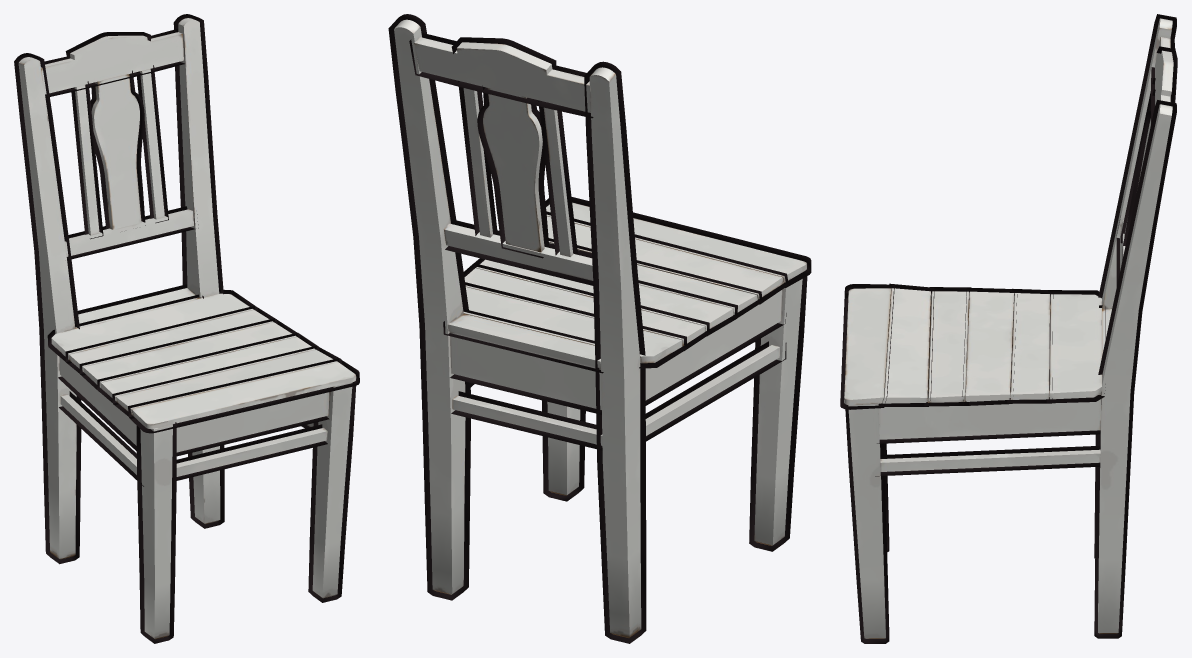
Rendered from SM_Int_WoodChair.fbx.
3 renders of one model, left to right at view 1: azimuth 30°, elevation 25°; view 2: azimuth 150°, elevation 25°; view 3: azimuth 270°, elevation 25°, orthographic. The views are drawn at different scales.
Parts seen in each view (by area): view 1: SM_Int_WoodChair; view 2: SM_Int_WoodChair; view 3: SM_Int_WoodChair.
Boxes of the visible parts, x1,y1,x2,y2 form: SM_Int_WoodChair: [14, 14, 359, 643]; SM_Int_WoodChair: [388, 14, 811, 643]; SM_Int_WoodChair: [840, 14, 1177, 643].
Size of what is drawn, in the model's own units: 0.418 by 0.914 by 0.5204.
